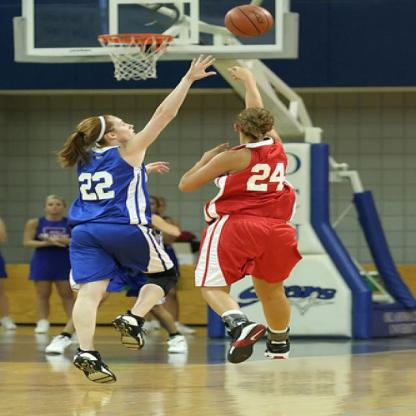basketball: (225, 3, 272, 38)
